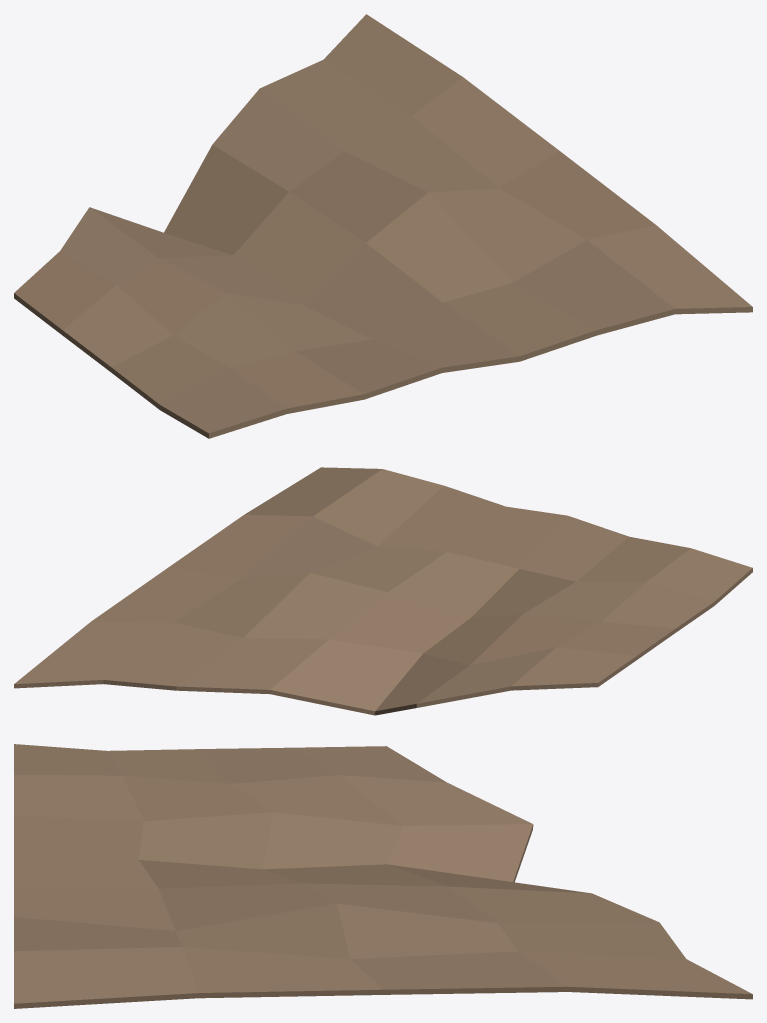
The model's file is plate1.fbx.
3 views of the same model, one above another, from view 1: azimuth 30°, elevation 25°; view 2: azimuth 150°, elevation 25°; view 3: azimuth 270°, elevation 25° (orthographic). The views are drawn at different scales.
Visible parts, largest first — view 1: Plate1; view 2: Plate1; view 3: Plate1.
Part boxes in pixels (box(x1,y1,x2,y2)): Plate1: box(14, 14, 752, 438); Plate1: box(14, 467, 752, 715); Plate1: box(14, 744, 752, 1008).
Size of the model in its own units: 30 by 3.72 by 36.92.
